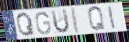G: (34, 11, 52, 35)
I: (71, 7, 81, 35), (107, 4, 116, 30)
Q: (87, 5, 107, 32), (16, 12, 36, 37)
U: (50, 8, 70, 35)
